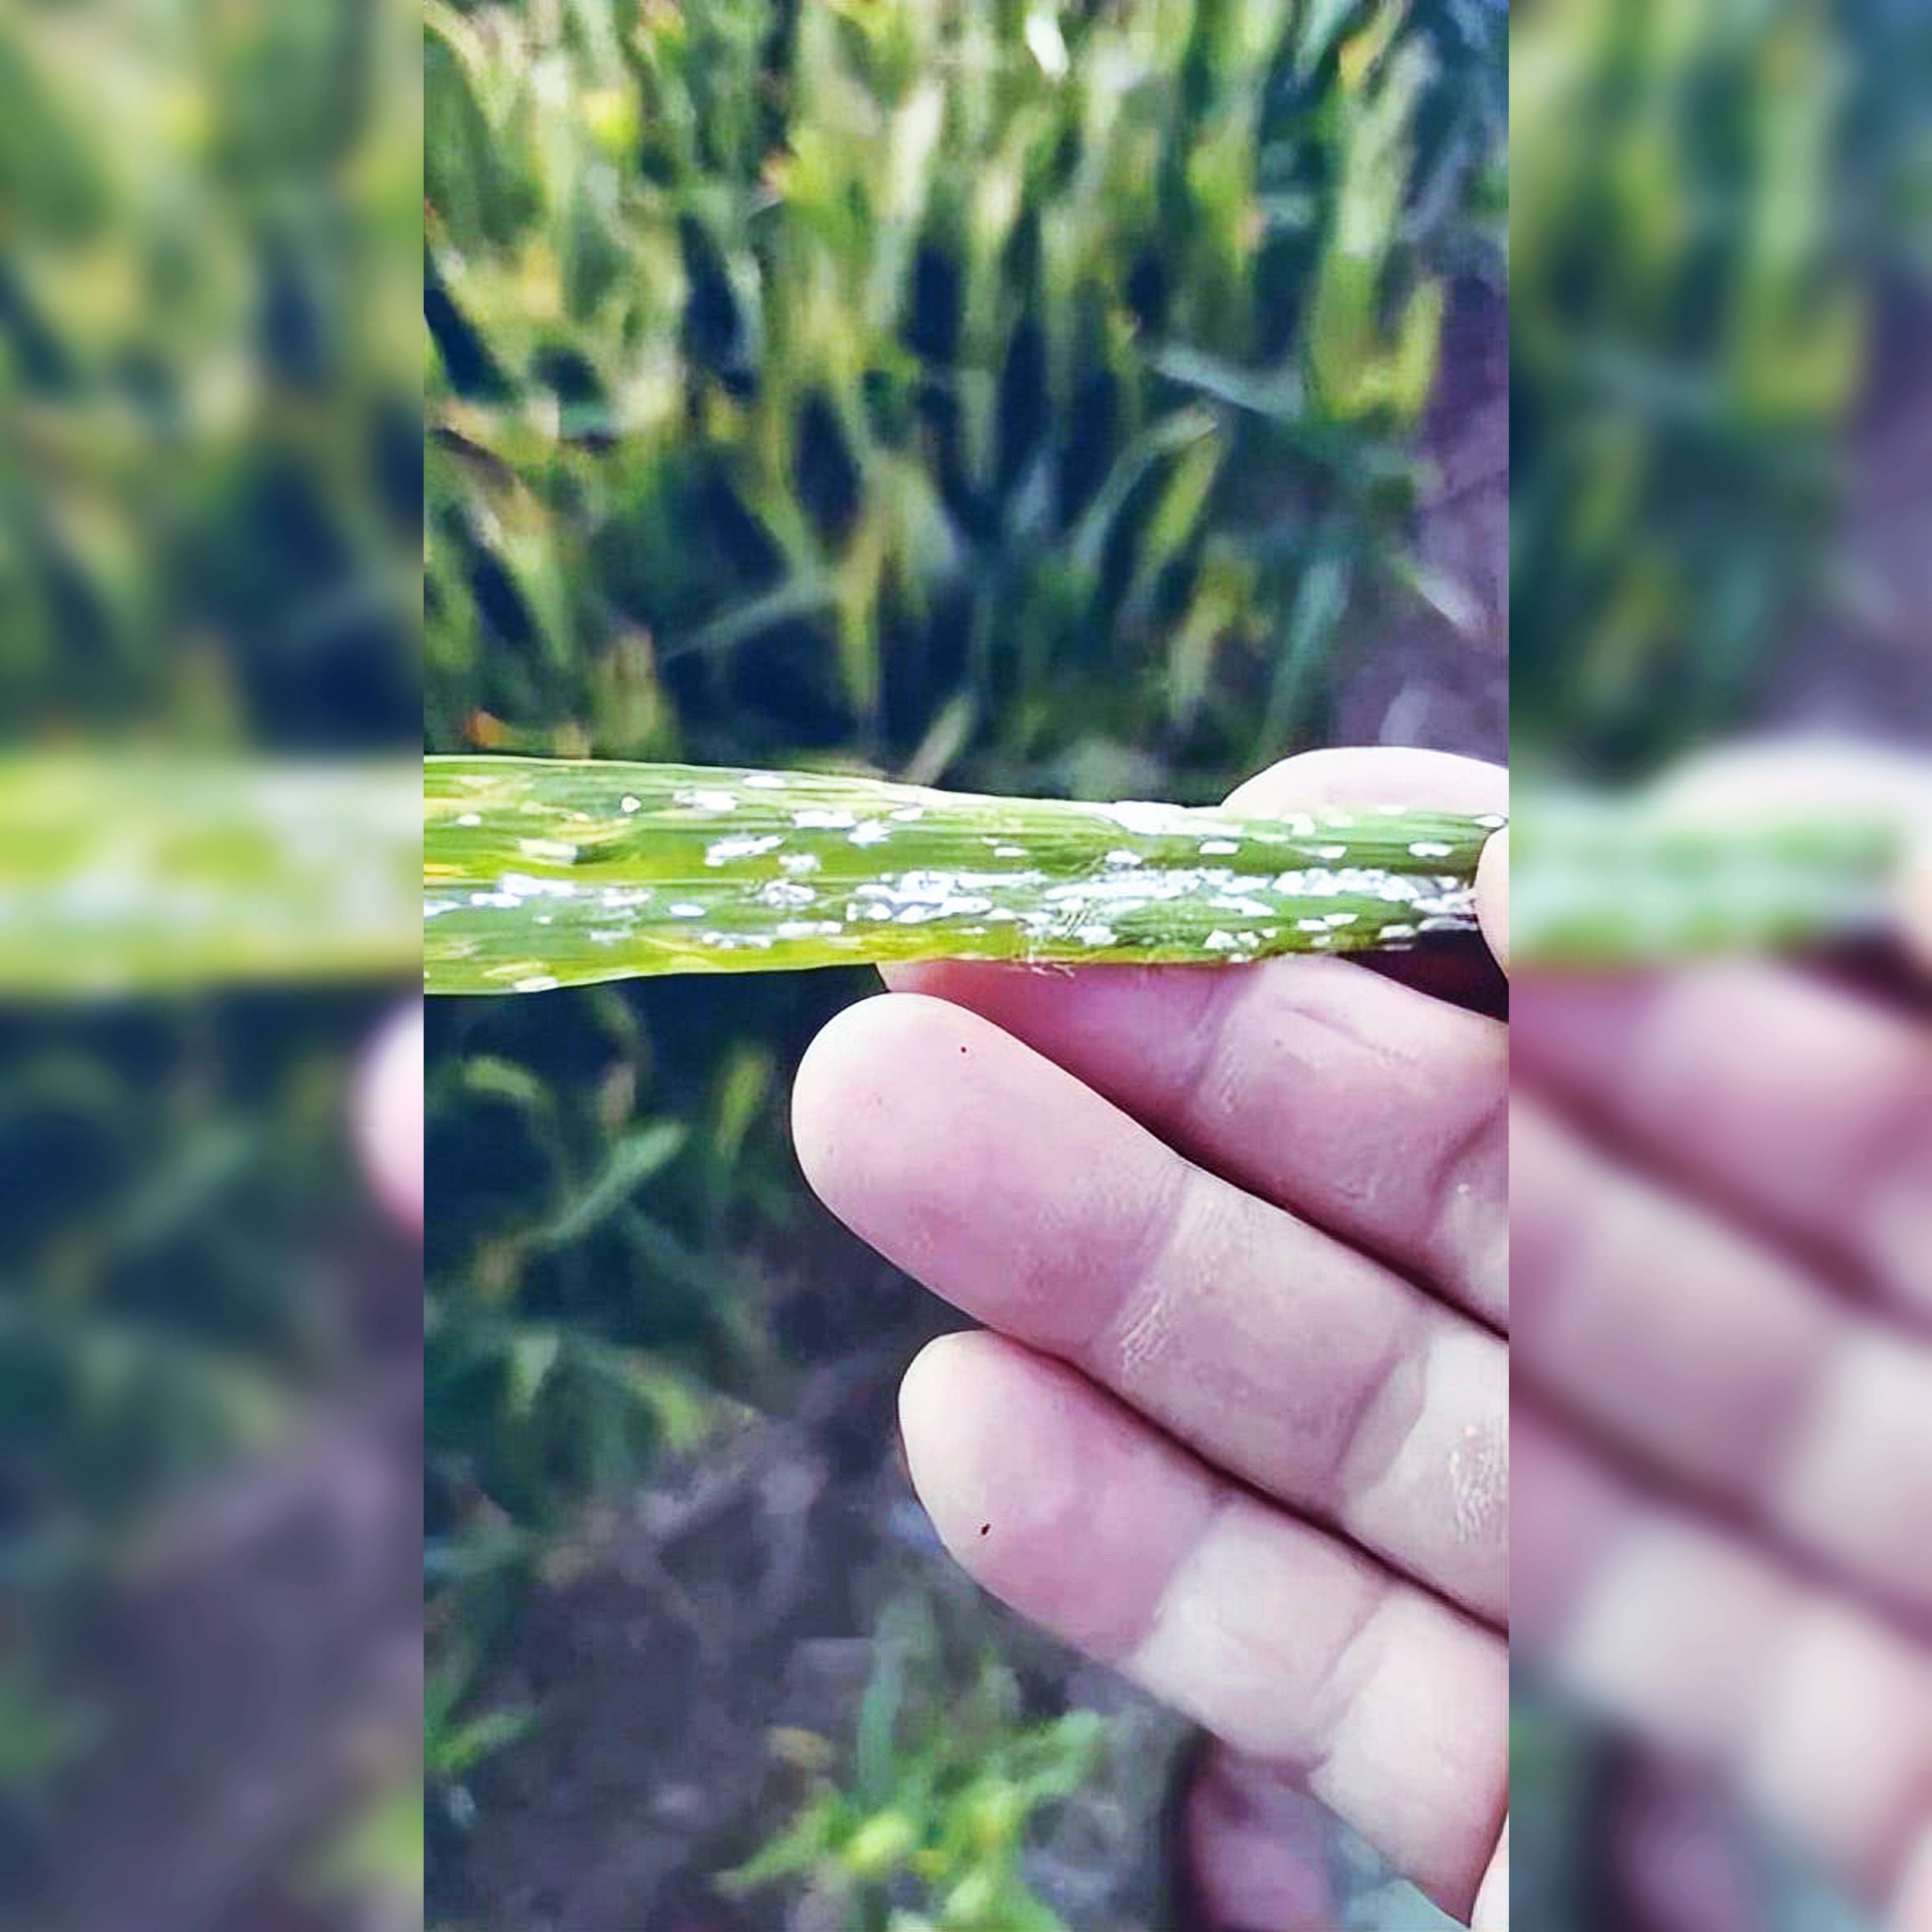Powdery Mildew: (478, 743, 1449, 971)
